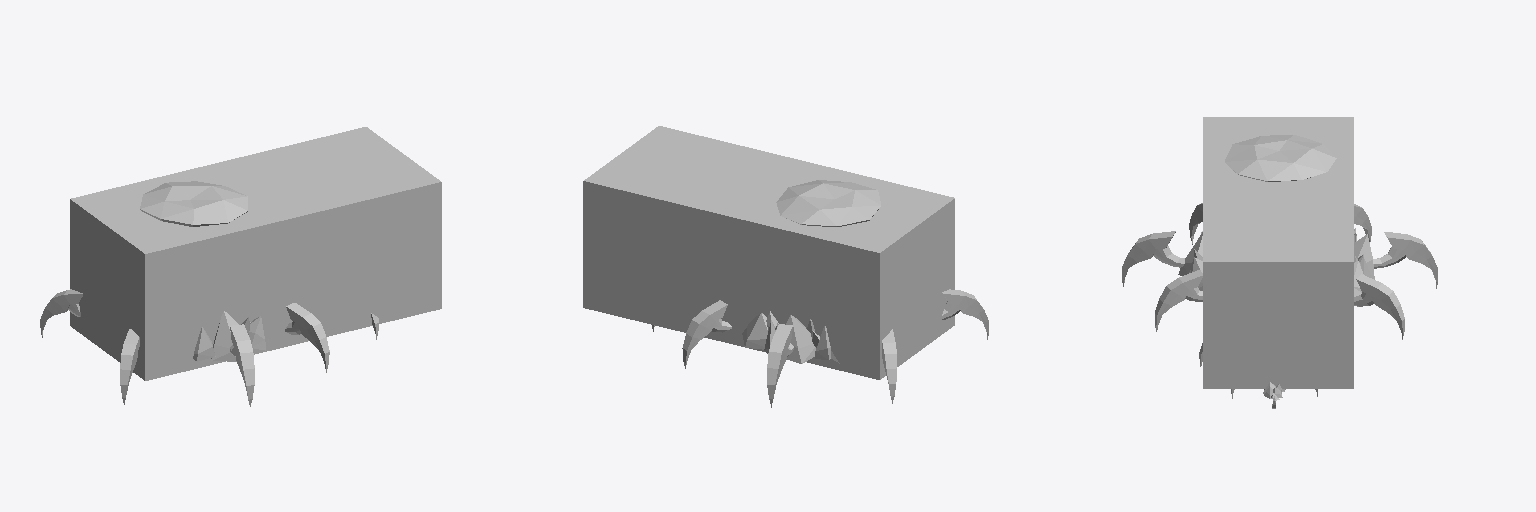
Rendered from fire enemytest.obj.
The picture shows the model from 3 angles: view 1: azimuth 30°, elevation 25°; view 2: azimuth 150°, elevation 25°; view 3: azimuth 270°, elevation 25°; orthographic projection.
Visible parts, largest first — view 1: Cube, legs_Plane.006, head_Cylinder.078, body_Cylinder; view 2: Cube, legs_Plane.006, head_Cylinder.078, body_Cylinder; view 3: Cube, legs_Plane.006, head_Cylinder.078, body_Cylinder.
Part boxes in pixels (bbox=[...]): Cube: bbox=[70, 127, 441, 380]; legs_Plane.006: bbox=[40, 289, 378, 406]; head_Cylinder.078: bbox=[140, 181, 247, 226]; body_Cylinder: bbox=[193, 311, 268, 361]; Cube: bbox=[583, 126, 954, 379]; legs_Plane.006: bbox=[652, 289, 988, 407]; head_Cylinder.078: bbox=[776, 180, 880, 226]; body_Cylinder: bbox=[742, 311, 839, 363]; Cube: bbox=[1203, 117, 1353, 388]; legs_Plane.006: bbox=[1122, 203, 1437, 408]; head_Cylinder.078: bbox=[1225, 135, 1336, 181]; body_Cylinder: bbox=[1178, 228, 1374, 400].
Bounding box in the file's own units: 16.65 × 6.69 × 12.8.